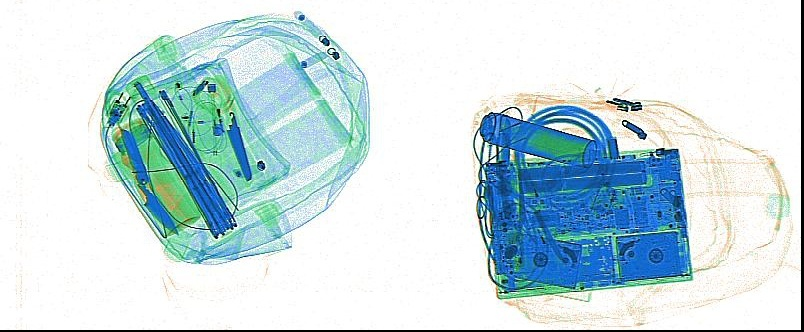knife: (121, 149, 180, 234), (211, 79, 252, 181), (116, 121, 149, 186)
lighter: (204, 86, 225, 136)
pressure: (478, 110, 598, 169)
